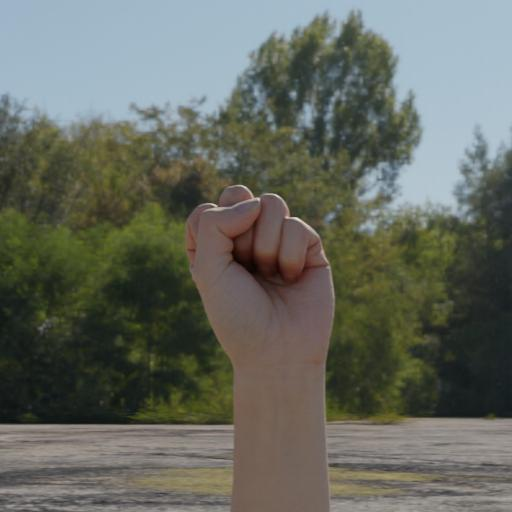S: (162, 168, 370, 395)
